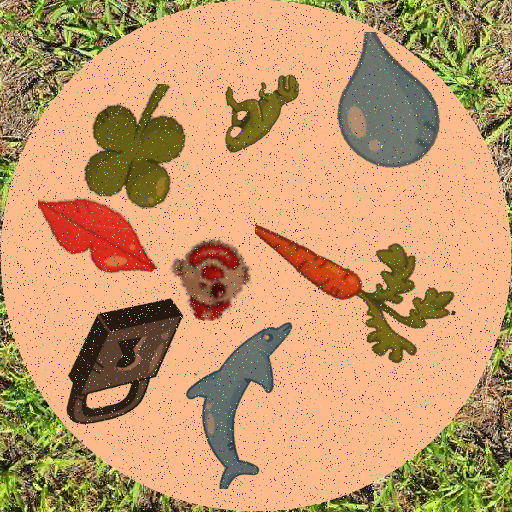carrot_icon: (255, 198, 456, 399)
cloverleaf_icon: (78, 84, 214, 220)
clown_icon: (167, 237, 251, 321)
dino_icon: (216, 73, 306, 163)
dolphin_icon: (153, 311, 331, 489)
lips_icon: (38, 166, 165, 293)
lock_icon: (52, 287, 198, 433)
raindrop_icon: (317, 32, 457, 172)
